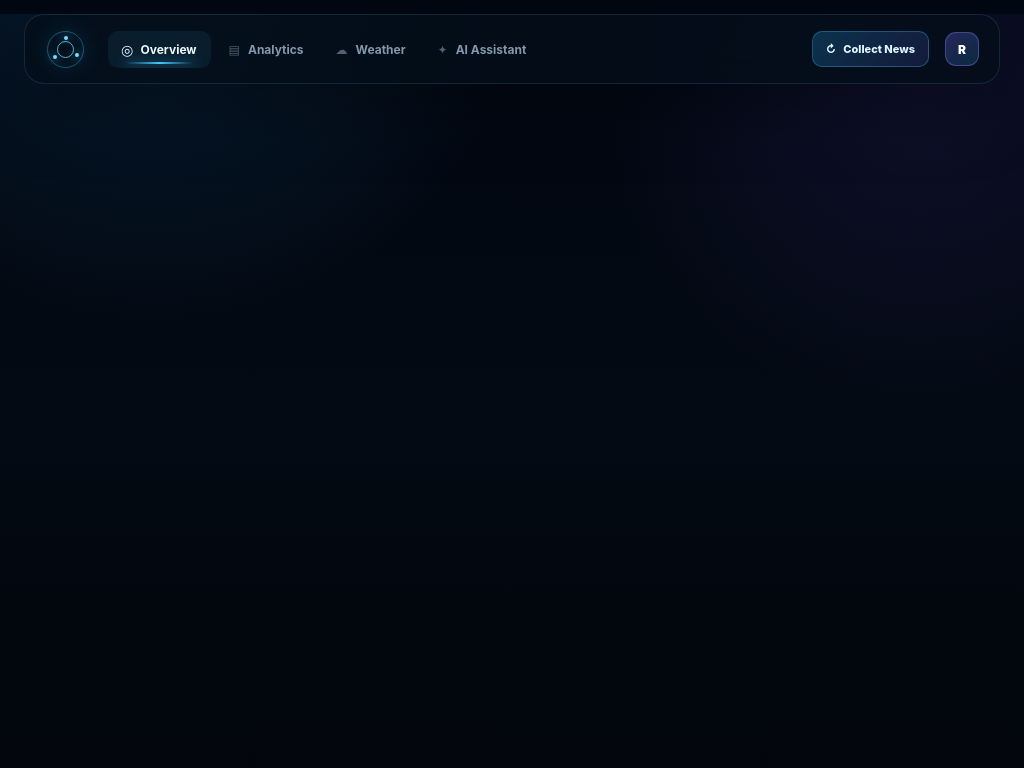
Test: Navbar › account menu › closes on an outside click but not on an inside one
Click the button named "Rashmika" at coordinates (962, 49), box [939,28,985,70]
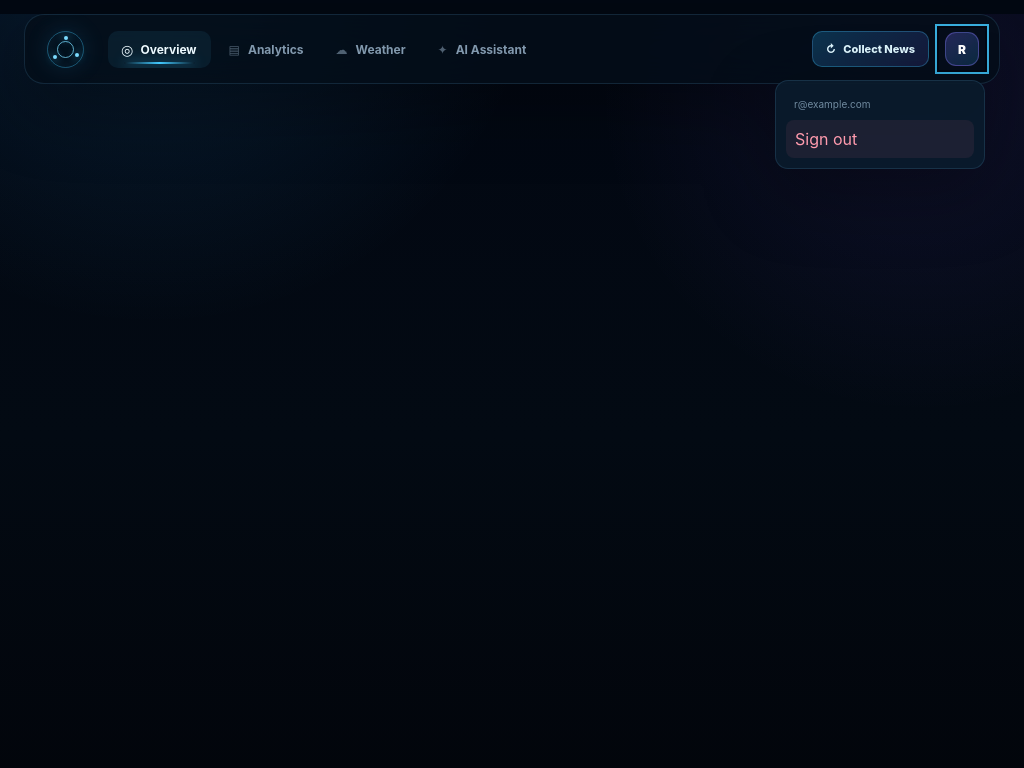
Click the text "r@example.com" at coordinates (832, 104), box [794,98,871,110]
(page scrolled)
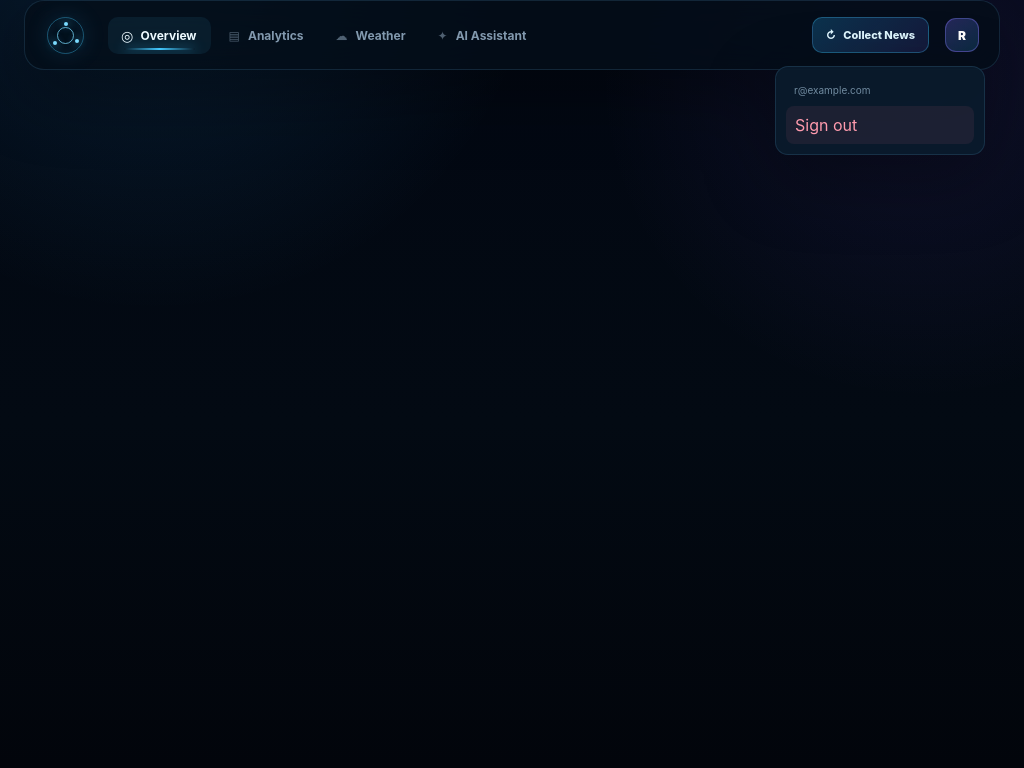
Check: the menu is shown, box [775,66,985,155]
Click the element that starts with "Overview" at coordinates (512, 384), box [0,0,1023,767]
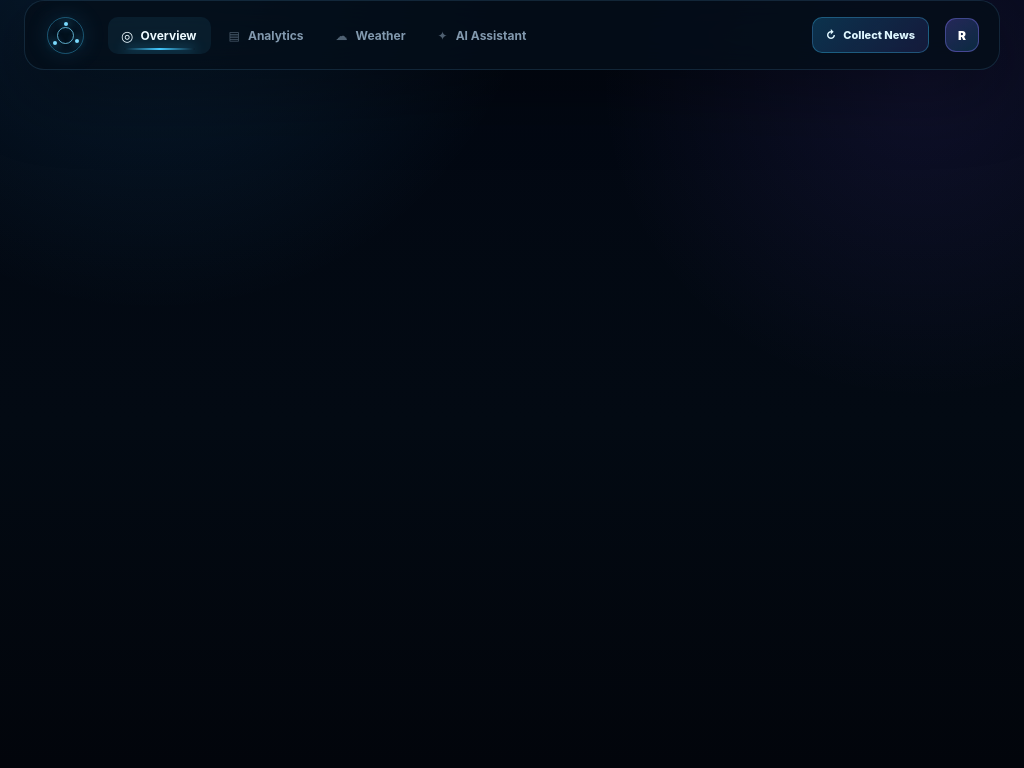
Check: the menu is gone
